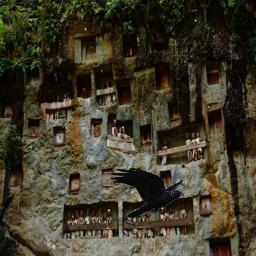Crow: (109, 167, 186, 218)
